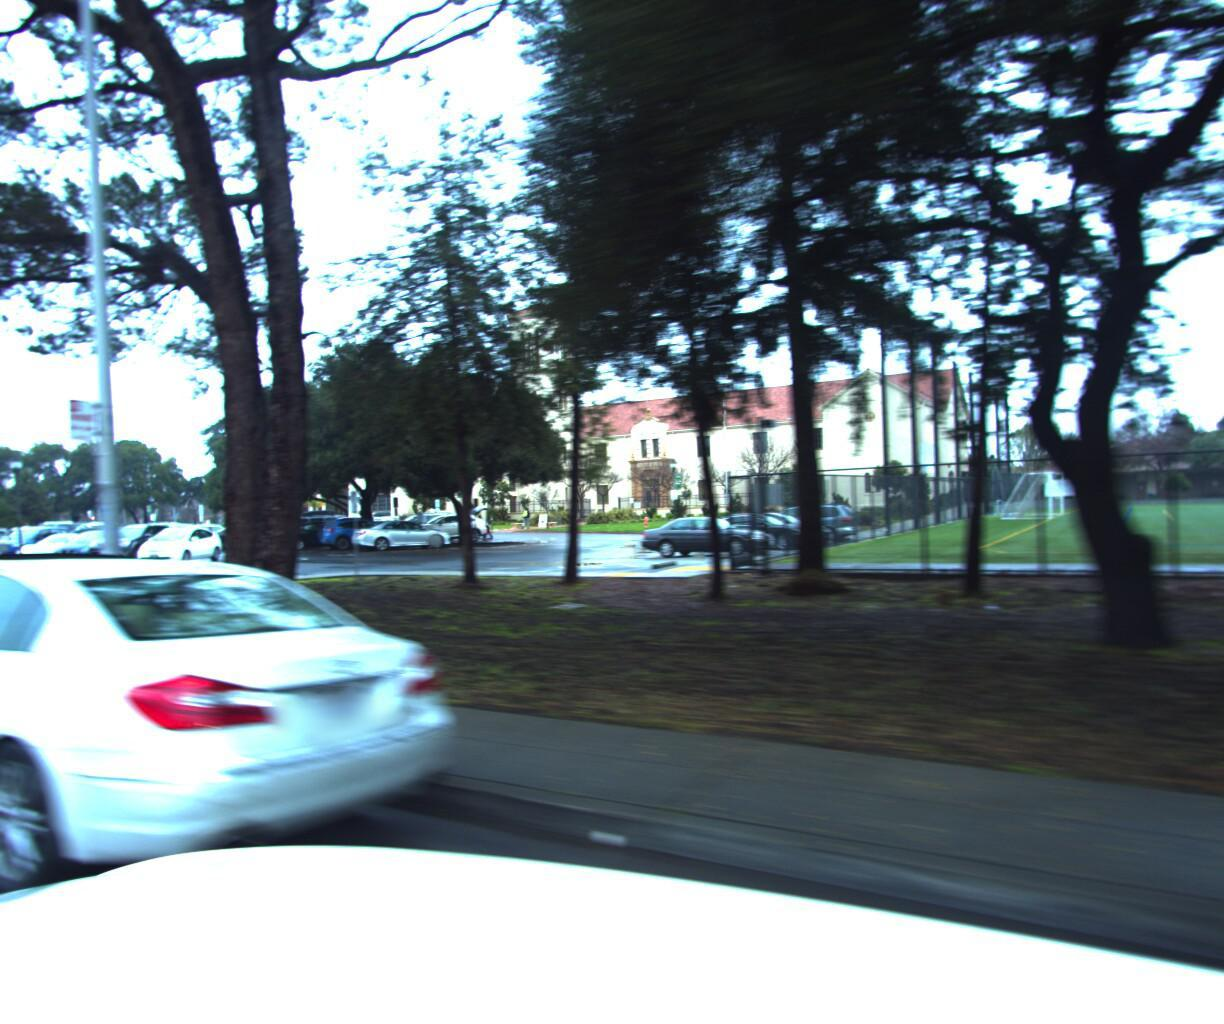car: (0, 535, 478, 1024)
